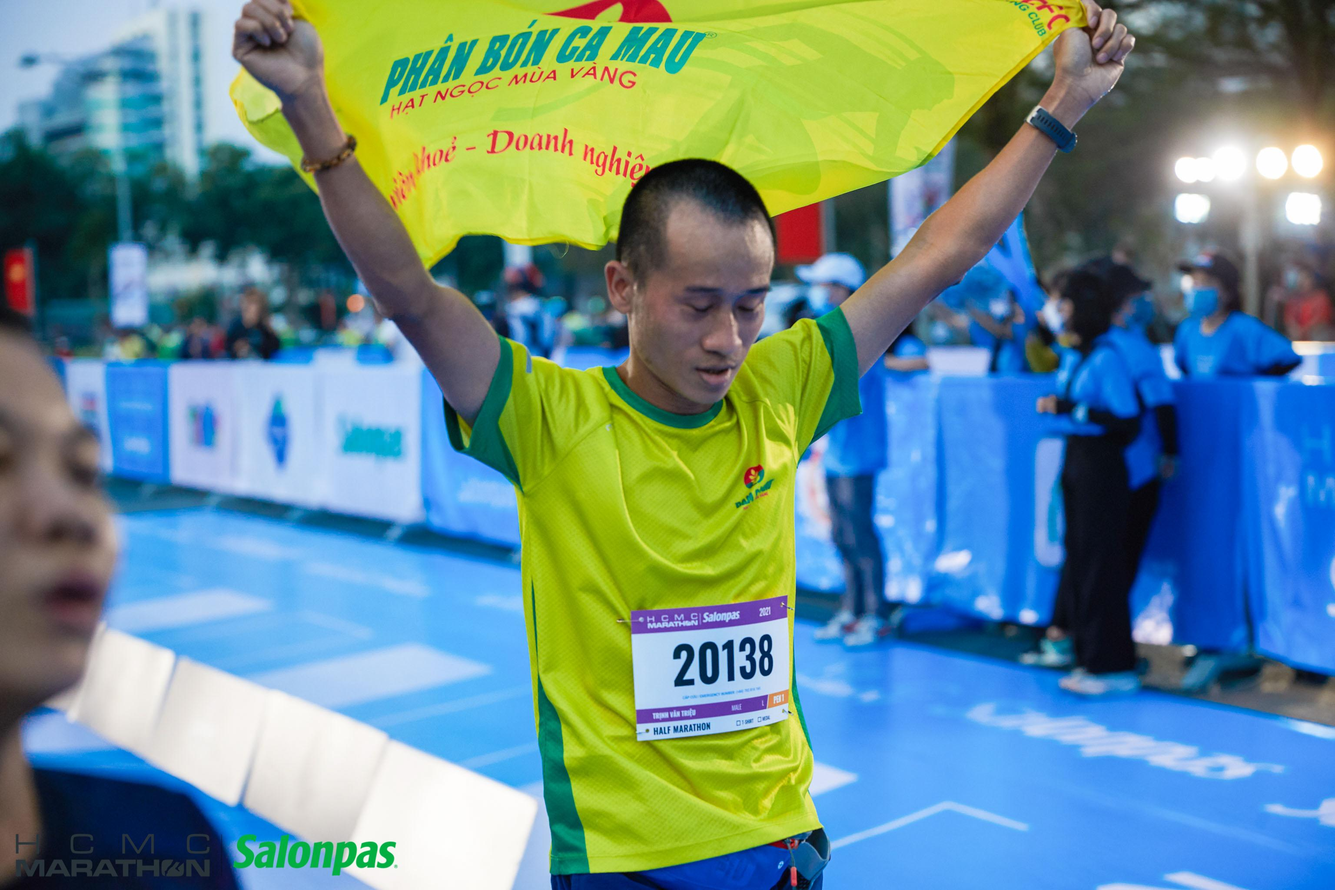bib: (627, 591, 794, 742)
